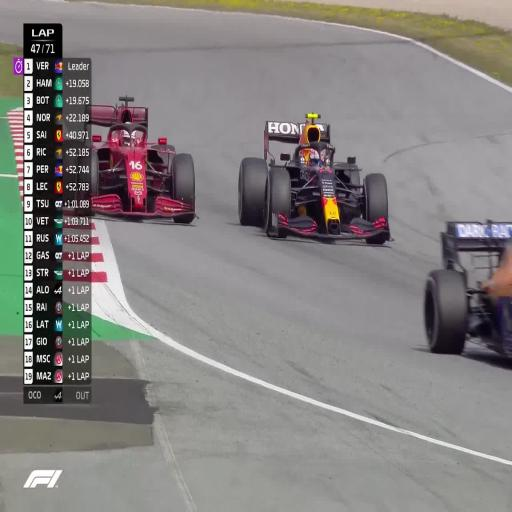f1_car: (238, 113, 390, 244), (77, 97, 195, 223), (423, 220, 512, 355), (78, 186, 80, 190)
